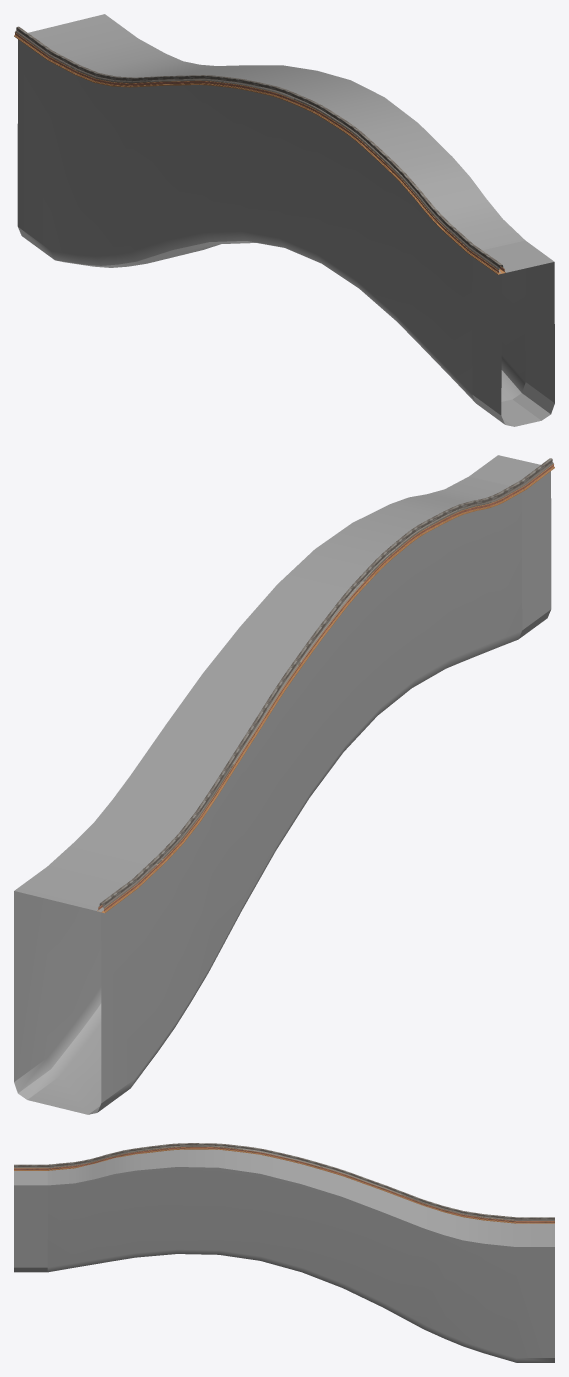
Rendered from bridgeway_test_curvature_uvs.fbx.
3 renders of one model, top to bottom at view 1: azimuth 30°, elevation 25°; view 2: azimuth 150°, elevation 25°; view 3: azimuth 270°, elevation 25°, orthographic. The views are drawn at different scales.
Parts seen in each view (by area): view 1: pCube36, polySurface1030, polySurface1035, polySurface1043, polySurface1044, polySurface1037; view 2: pCube36, polySurface1030, polySurface1035, polySurface1043, polySurface1044; view 3: pCube36, polySurface1030, polySurface1035, polySurface1042, polySurface1043, polySurface1039.
Part boxes in pixels (left/top/right/bottom): pCube36: left=17, top=14, right=554, bottom=426; polySurface1030: left=16, top=26, right=503, bottom=267; polySurface1035: left=15, top=30, right=504, bottom=270; polySurface1043: left=14, top=35, right=505, bottom=274; polySurface1044: left=15, top=33, right=498, bottom=272; polySurface1037: left=15, top=32, right=498, bottom=270; pCube36: left=14, top=455, right=551, bottom=1114; polySurface1030: left=99, top=458, right=552, bottom=906; polySurface1035: left=98, top=462, right=553, bottom=908; polySurface1043: left=97, top=466, right=554, bottom=913; polySurface1044: left=104, top=464, right=553, bottom=911; pCube36: left=14, top=1149, right=554, bottom=1362; polySurface1030: left=14, top=1143, right=554, bottom=1219; polySurface1035: left=14, top=1145, right=554, bottom=1220; polySurface1042: left=14, top=1147, right=554, bottom=1222; polySurface1043: left=14, top=1148, right=554, bottom=1223; polySurface1039: left=14, top=1147, right=554, bottom=1221.
Bounding box in the file's own units: 9 × 32.92 × 80.
